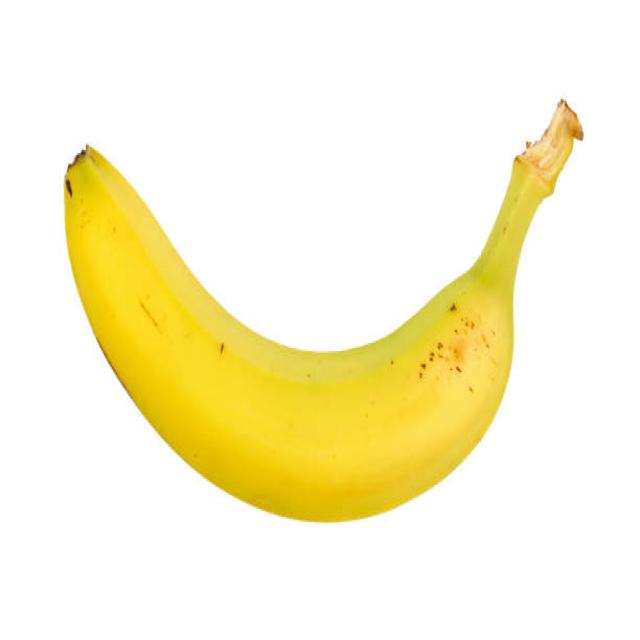banana: (65, 98, 586, 523)
